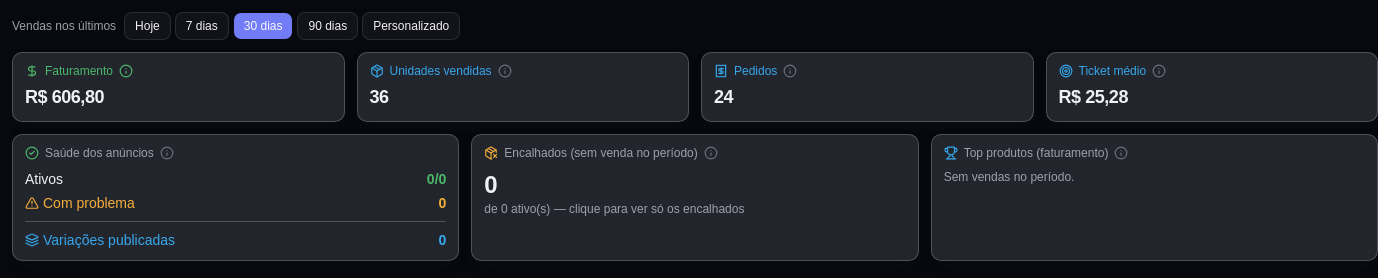
Test: DashboardPublicados › clicar em Personalizado mostra De/Até e OK, mas NÃO refaz a busca ainda
Click the button "Personalizado": {"x": 411, "y": 26} x1=362 y1=12 x2=460 y2=40
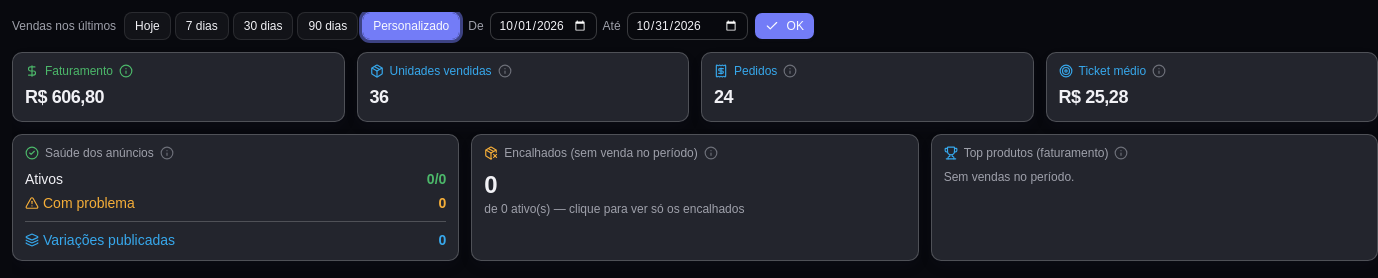
Expected: the date field labelled "De" is shown, x1=490 y1=12 x2=597 y2=40
Expected: the date field labelled "Até" is shown, x1=627 y1=12 x2=748 y2=40
Expected: the button "OK" is shown, x1=754 y1=12 x2=815 y2=40
